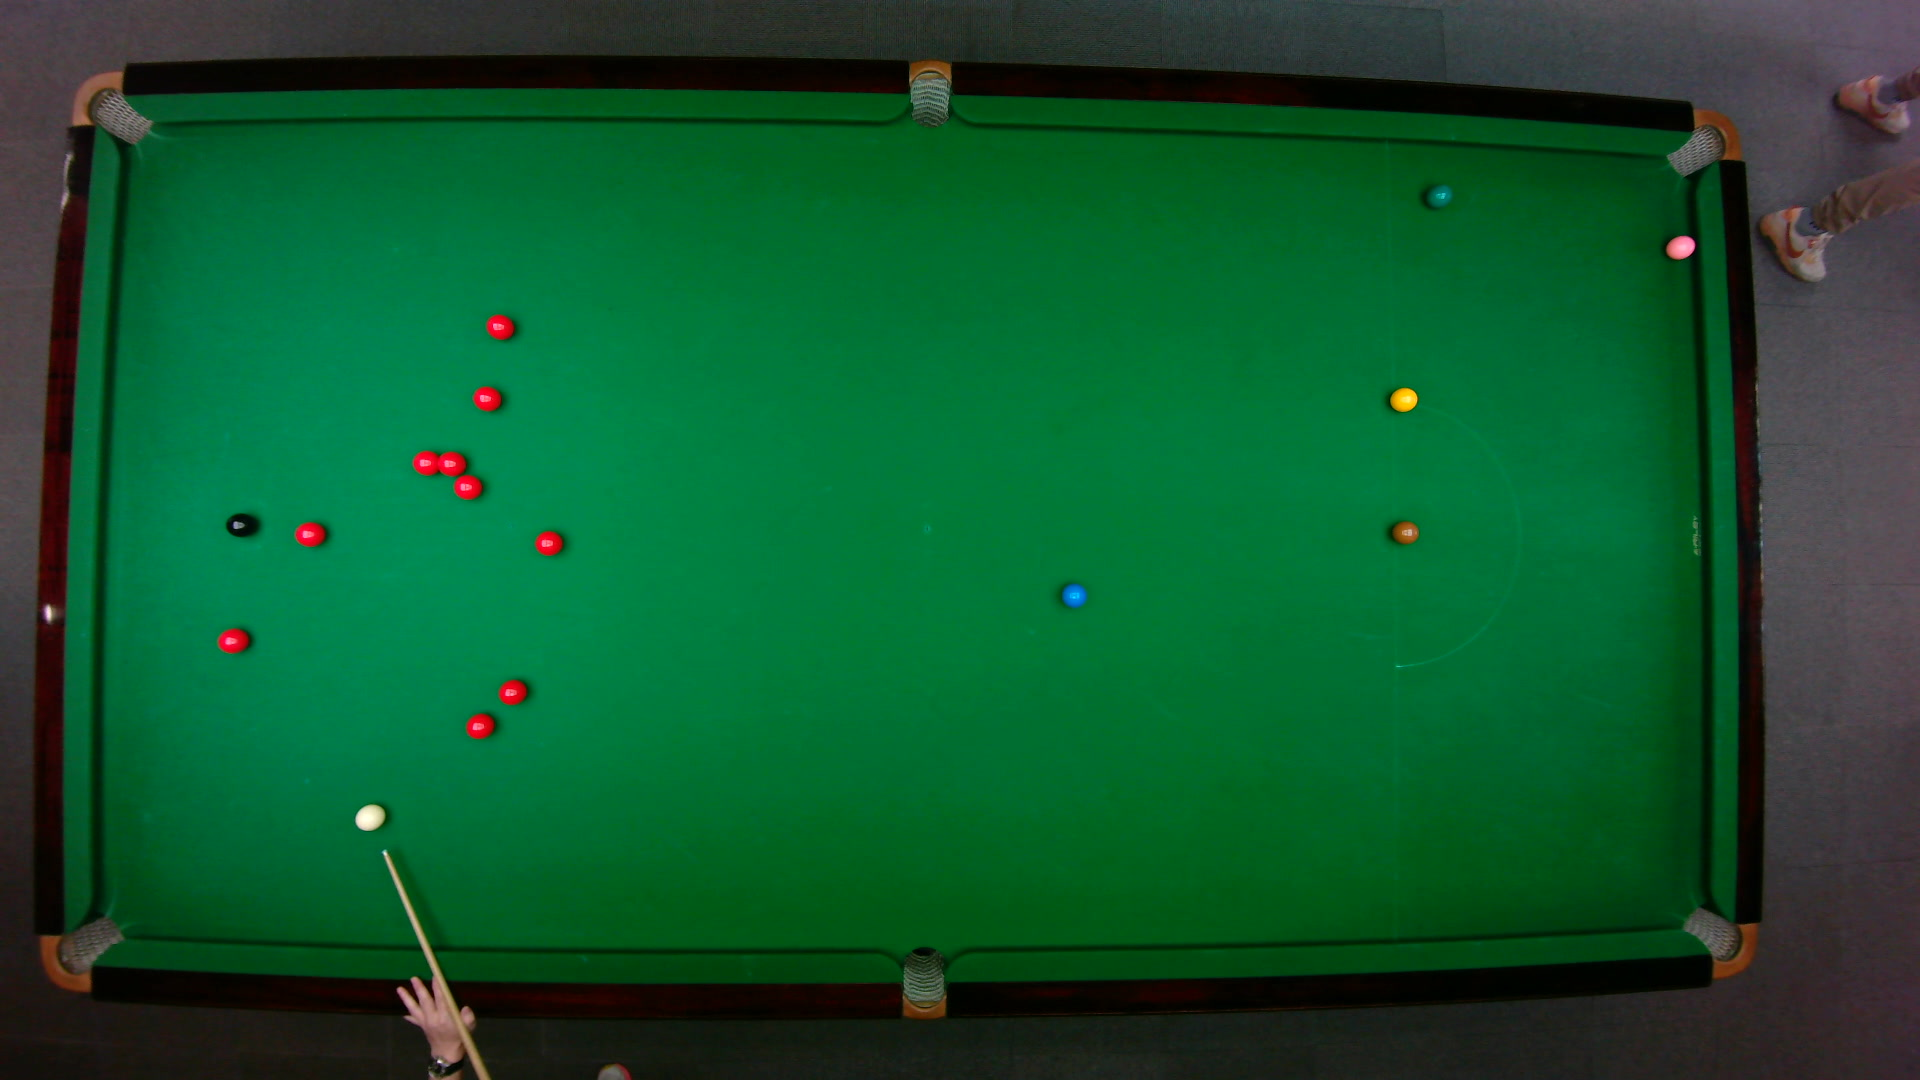bag: (37, 913, 125, 992), (67, 69, 153, 145), (1677, 905, 1756, 978), (1663, 107, 1741, 177), (901, 944, 944, 1021), (909, 57, 949, 127)
black: (223, 512, 256, 537)
blue: (1059, 582, 1087, 608)
brown: (1390, 520, 1419, 545)
cue: (378, 848, 491, 1080)
green: (1423, 182, 1453, 208)
pink: (1663, 232, 1697, 260)
red: (215, 626, 251, 654), (496, 676, 527, 705), (463, 711, 496, 738), (484, 313, 516, 340), (471, 384, 502, 411), (294, 520, 324, 547), (533, 529, 563, 556), (451, 472, 483, 498), (410, 448, 442, 475), (436, 448, 467, 475)
white: (352, 800, 386, 831)
yellow: (1387, 384, 1419, 413)
zone: (1390, 400, 1520, 669)
